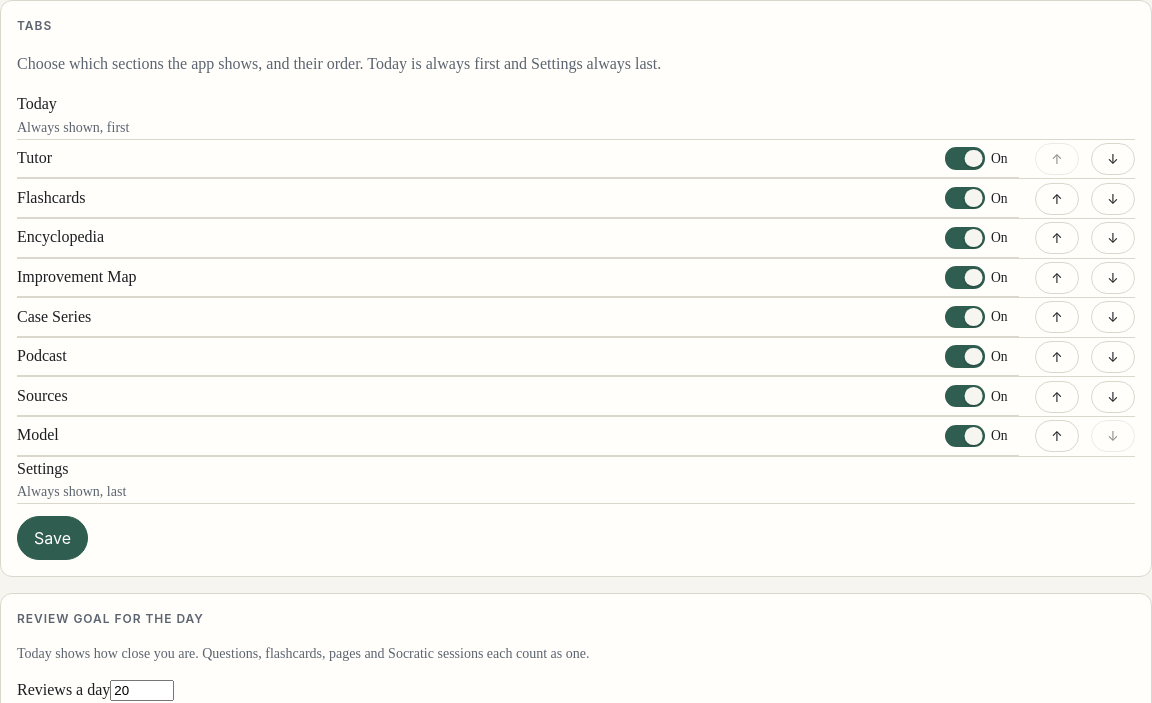
Test: settings › lets the owner untick a tab, keeps Today and Settings fixed, and saves
Expected: the text "Always shown, first" is shown, [17,117,129,139]
Click the switch labelled "Podcast".
click(42, 356)  # box [17,338,1019,376]
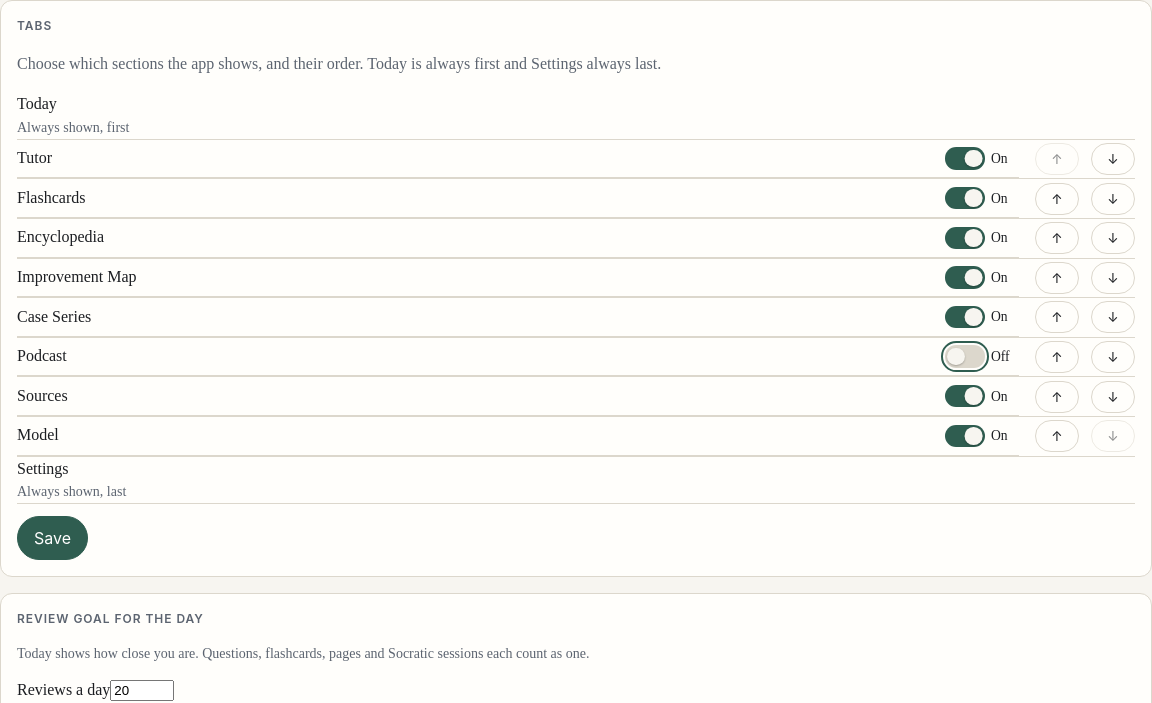
Click the button "Save".
click(52, 538)  # box [17,516,88,560]
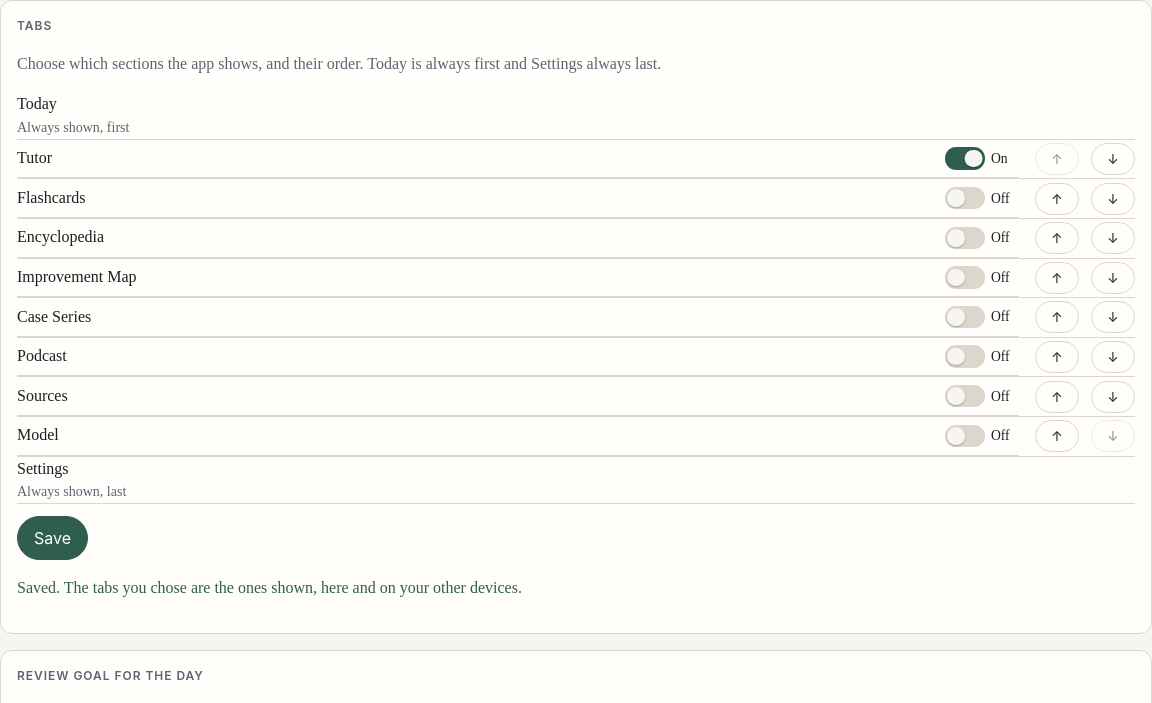
Result: the text "Saved. The tabs you chose are the ones shown, here and on your other devices." is shown at [17,579,522,596]
